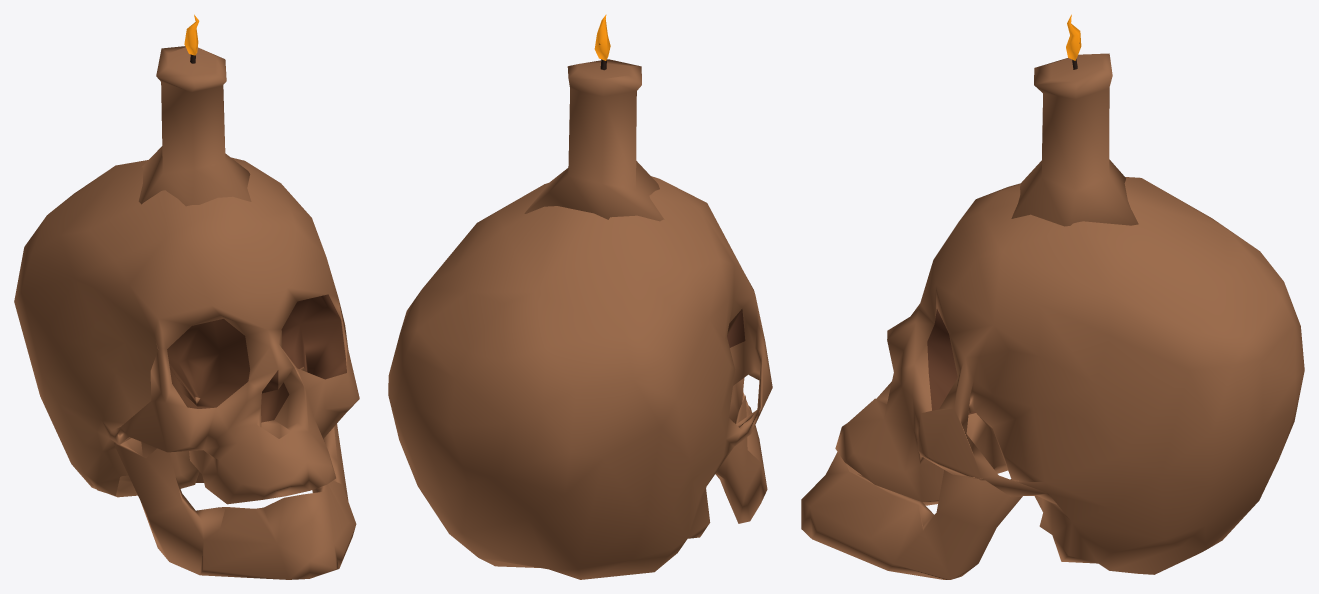
Rendered from CandleSkullShapeB.018.glb.
The picture shows the model from 3 angles, left to right: view 1: azimuth 30°, elevation 25°; view 2: azimuth 150°, elevation 25°; view 3: azimuth 270°, elevation 25°; orthographic projection. The views are drawn at different scales.
Parts seen in each view (by area): view 1: CandleSkullShapeB.018; view 2: CandleSkullShapeB.018; view 3: CandleSkullShapeB.018.
Boxes of the visible parts, x1=… form: CandleSkullShapeB.018: x1=14, y1=14, x2=359, y2=579; CandleSkullShapeB.018: x1=388, y1=14, x2=772, y2=579; CandleSkullShapeB.018: x1=801, y1=14, x2=1304, y2=579.
Size of the model in its own units: 0.2005 by 0.3649 by 0.3132.
Materials: 2 (2 with a texture image).
